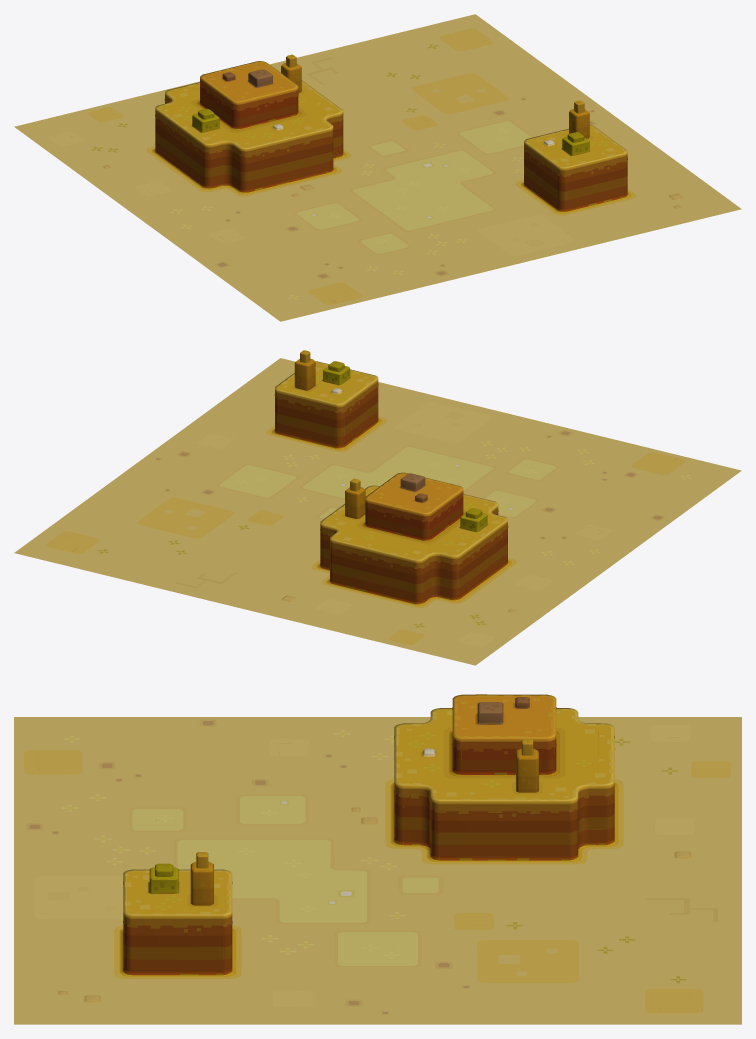
File: C_mountain1_04.fbx
3 views of the same model, one above another, from view 1: azimuth 30°, elevation 25°; view 2: azimuth 150°, elevation 25°; view 3: azimuth 270°, elevation 25° (orthographic). The views are drawn at different scales.
Parts seen in each view (by area): view 1: C_mountain1_04; view 2: C_mountain1_04; view 3: C_mountain1_04.
Part boxes in pixels (x1,y1,x2,y2): C_mountain1_04: (14, 14, 741, 321); C_mountain1_04: (14, 350, 741, 665); C_mountain1_04: (14, 694, 741, 1024).
Bounding box in the file's own units: 50 × 8.59 × 50.
1 material, 1 textured.
